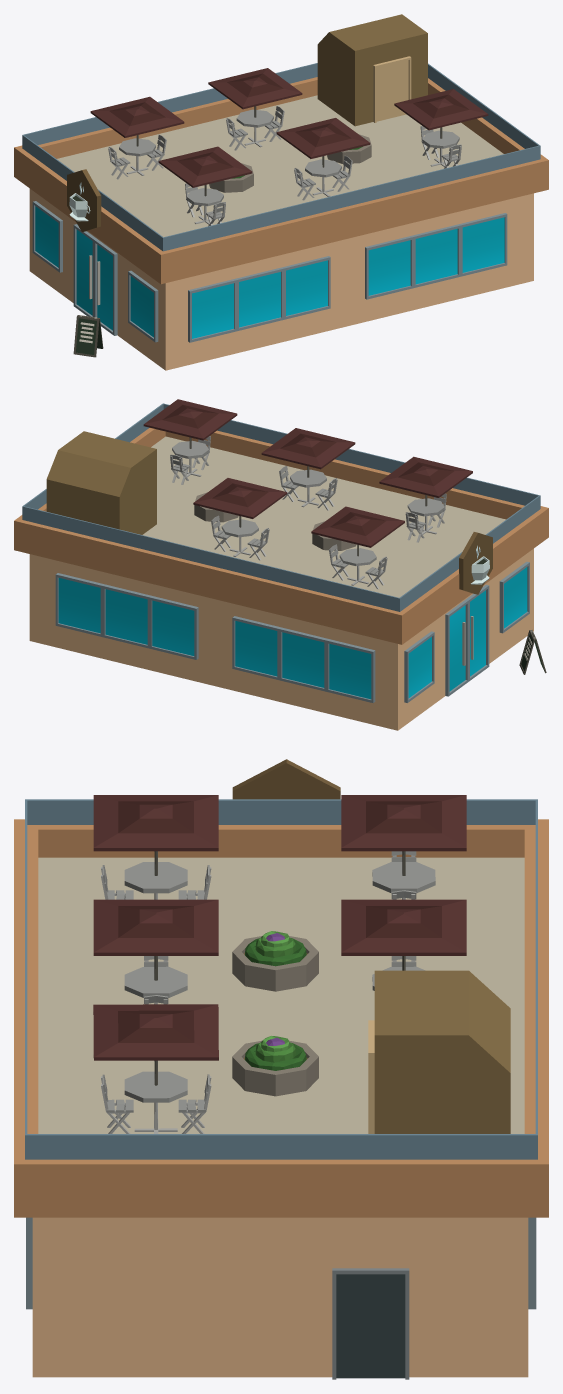
The model's file is Cafe_B.fbx.
3 views of the same model, one above another, from view 1: azimuth 30°, elevation 25°; view 2: azimuth 150°, elevation 25°; view 3: azimuth 270°, elevation 25° (orthographic). The views are drawn at different scales.
Parts seen in each view (by area): view 1: Cafe_B; view 2: Cafe_B; view 3: Cafe_B.
Boxes of the visible parts, x1=… form: Cafe_B: x1=14, y1=14, x2=548, y2=370; Cafe_B: x1=14, y1=399, x2=548, y2=730; Cafe_B: x1=14, y1=759, x2=548, y2=1379.
Size of the model in its own units: 1462 by 591 by 863.
